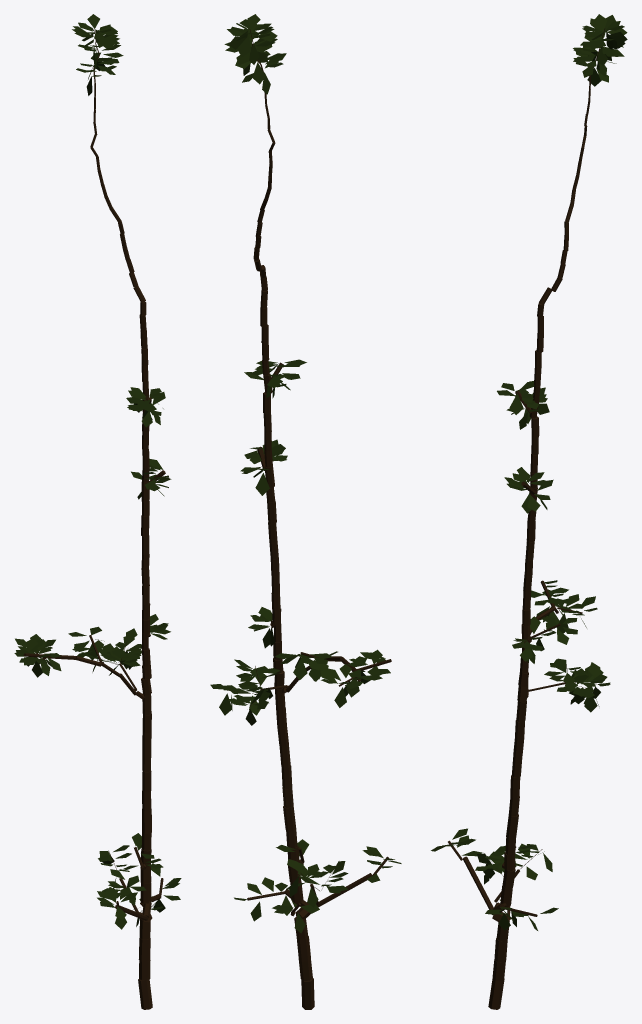
Rendered from 2022_tree_248.obj.
3 renders of one model, left to right at view 1: azimuth 30°, elevation 25°; view 2: azimuth 150°, elevation 25°; view 3: azimuth 270°, elevation 25°, orthographic. The views are drawn at different scales.
Parts seen in each view (by area): view 1: TrunkAndBranches, Leaves; view 2: Leaves, TrunkAndBranches; view 3: Leaves, TrunkAndBranches.
Part boxes in pixels (x1=…): TrunkAndBranches: x1=23, y1=28, x2=165, y2=1009; Leaves: x1=14, y1=14, x2=181, y2=929; Leaves: x1=210, y1=14, x2=401, y2=933; TrunkAndBranches: x1=227, y1=29, x2=391, y2=1009; Leaves: x1=431, y1=14, x2=627, y2=930; TrunkAndBranches: x1=448, y1=28, x2=605, y2=1009.
Bounding box in the file's own units: 2.29 × 13.99 × 2.54.
